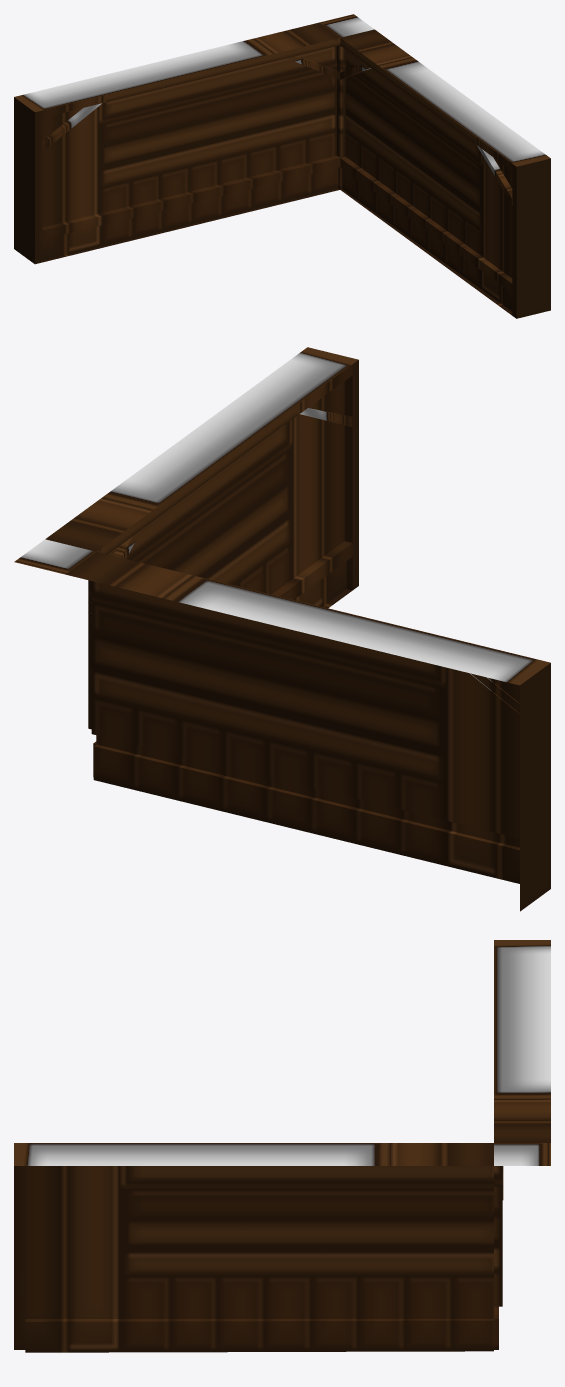
The model's file is StoreWall1stStep.FBX.
3 views of the same model, one above another, from view 1: azimuth 30°, elevation 25°; view 2: azimuth 150°, elevation 25°; view 3: azimuth 270°, elevation 25° (orthographic). The views are drawn at different scales.
Parts seen in each view (by area): view 1: Object069; view 2: Object069; view 3: Object069.
Boxes of the visible parts, left/top/right/bottom form: Object069: left=14, top=14, right=550, bottom=318; Object069: left=14, top=347, right=550, bottom=911; Object069: left=14, top=940, right=550, bottom=1352.
Size of the model in its own units: 1113 by 476 by 1119.
Materials: 1 (1 with a texture image).
